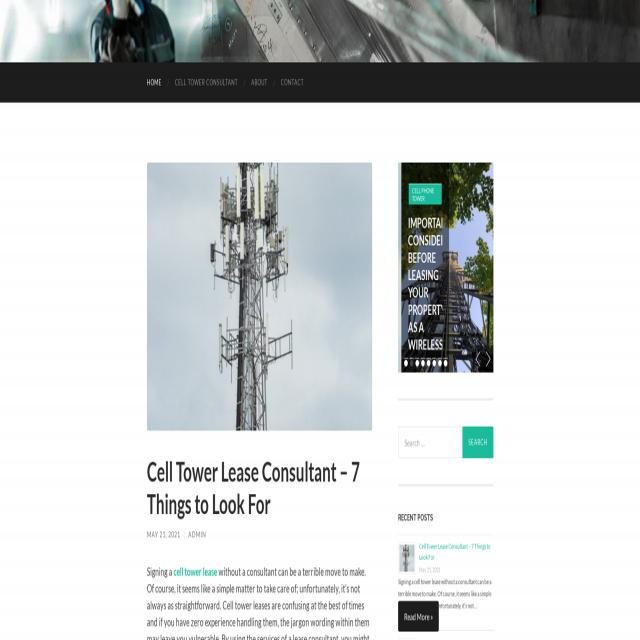button: (146, 162, 372, 430), (398, 163, 493, 372), (168, 62, 244, 103), (274, 62, 310, 103), (398, 600, 439, 632), (244, 62, 274, 103), (140, 62, 168, 103), (462, 427, 493, 458), (398, 542, 416, 574), (473, 346, 483, 372), (483, 346, 493, 372), (409, 359, 414, 367), (426, 359, 431, 367), (443, 359, 448, 367), (404, 359, 408, 367), (415, 359, 419, 367), (421, 359, 425, 367), (432, 359, 436, 367), (438, 359, 442, 367)
field: (398, 427, 462, 458)
